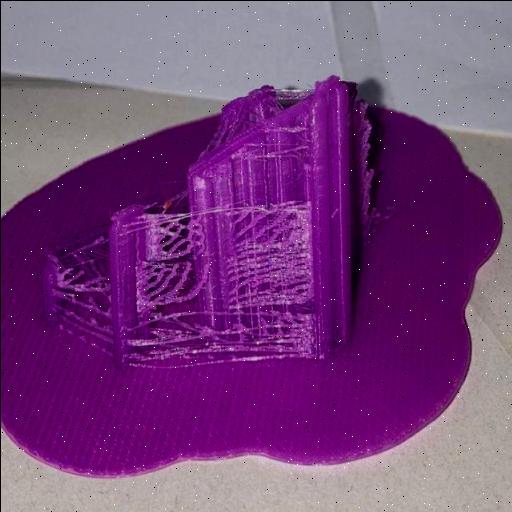stringing: (238, 212, 304, 302), (236, 306, 318, 362), (126, 314, 212, 364), (56, 276, 108, 346), (138, 214, 200, 268), (132, 264, 210, 304)
